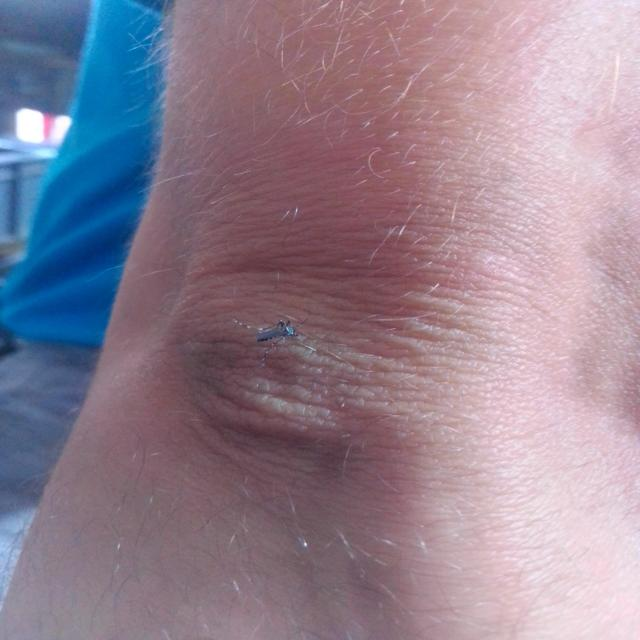albopictus: (224, 309, 316, 370)
